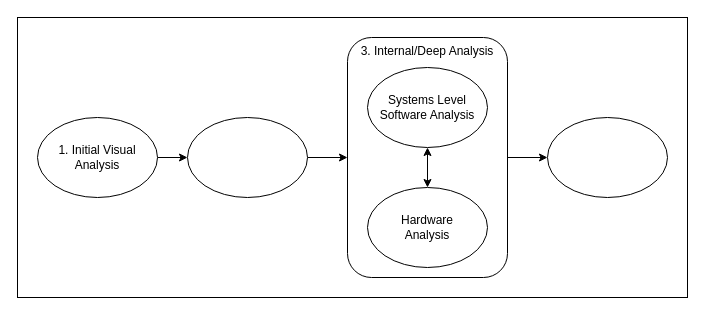
Some shapes in this 705 by 315 pixel diagram are drawn without their labels. Each missing label, with the box of its shape:
2. Behavioral Analysis: (186, 116, 308, 198)
4. Firmware Analysis: (546, 116, 668, 198)
